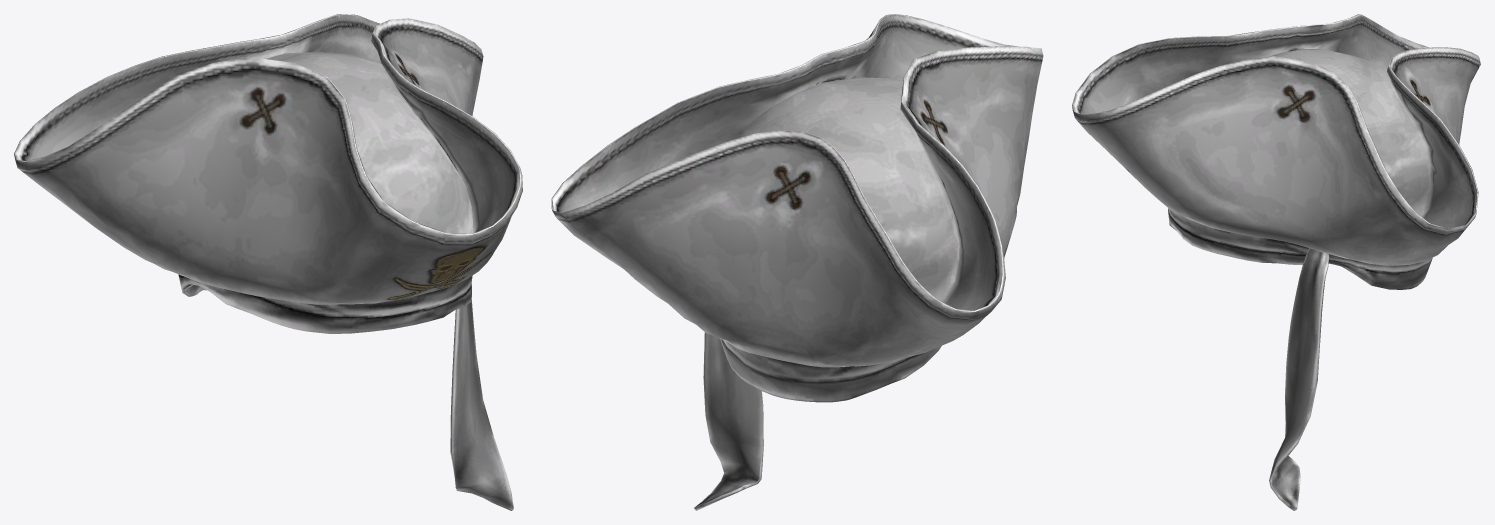
The model's file is SurvivorMale_Head_Hat_Pirate_LOD0.glb.
The picture shows the model from 3 angles, left to right: view 1: azimuth 30°, elevation 25°; view 2: azimuth 150°, elevation 25°; view 3: azimuth 270°, elevation 25°; orthographic projection. The views are drawn at different scales.
Visible parts, largest first — view 1: Hoodie; view 2: Hoodie; view 3: Hoodie.
Boxes of the visible parts, bbox=[...] form: Hoodie: bbox=[14, 14, 522, 510]; Hoodie: bbox=[551, 14, 1043, 510]; Hoodie: bbox=[1072, 14, 1480, 510].
Bounding box in the file's own units: 0.3199 × 0.3381 × 0.3125.
1 material, 1 textured.
